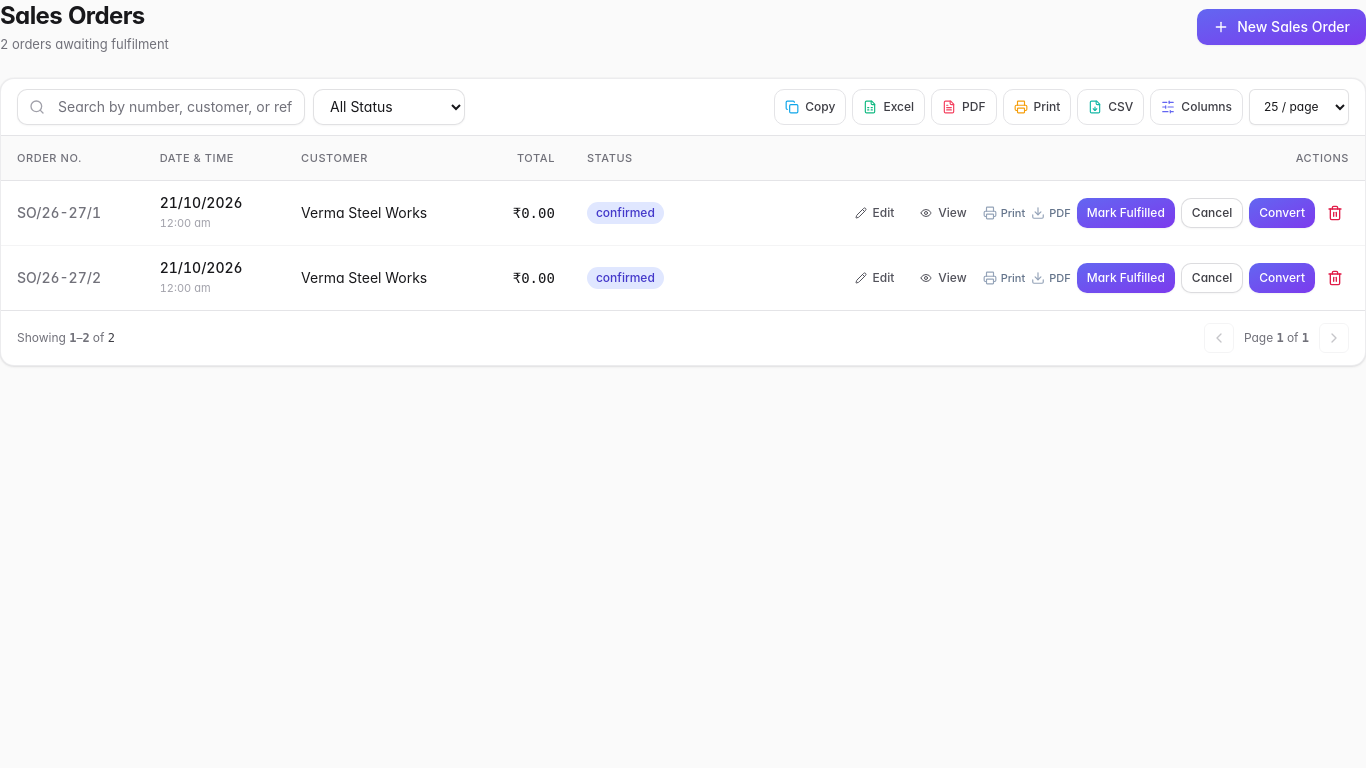
it: SalesOrdersPage — the read is business_id-scoped and never principal-scoped › confirms deletion, calls Supabase delete on sales_order_items and sales_orders, and shows success toast
Later steps or results of the test are not shown.
Expected: the text "SO/26-27/1" is shown, x1=1 y1=180 x2=144 y2=245
Click the button titled "Delete" in the row of "SO/26-27/1": (1335,213) x1=1321 y1=198 x2=1349 y2=228
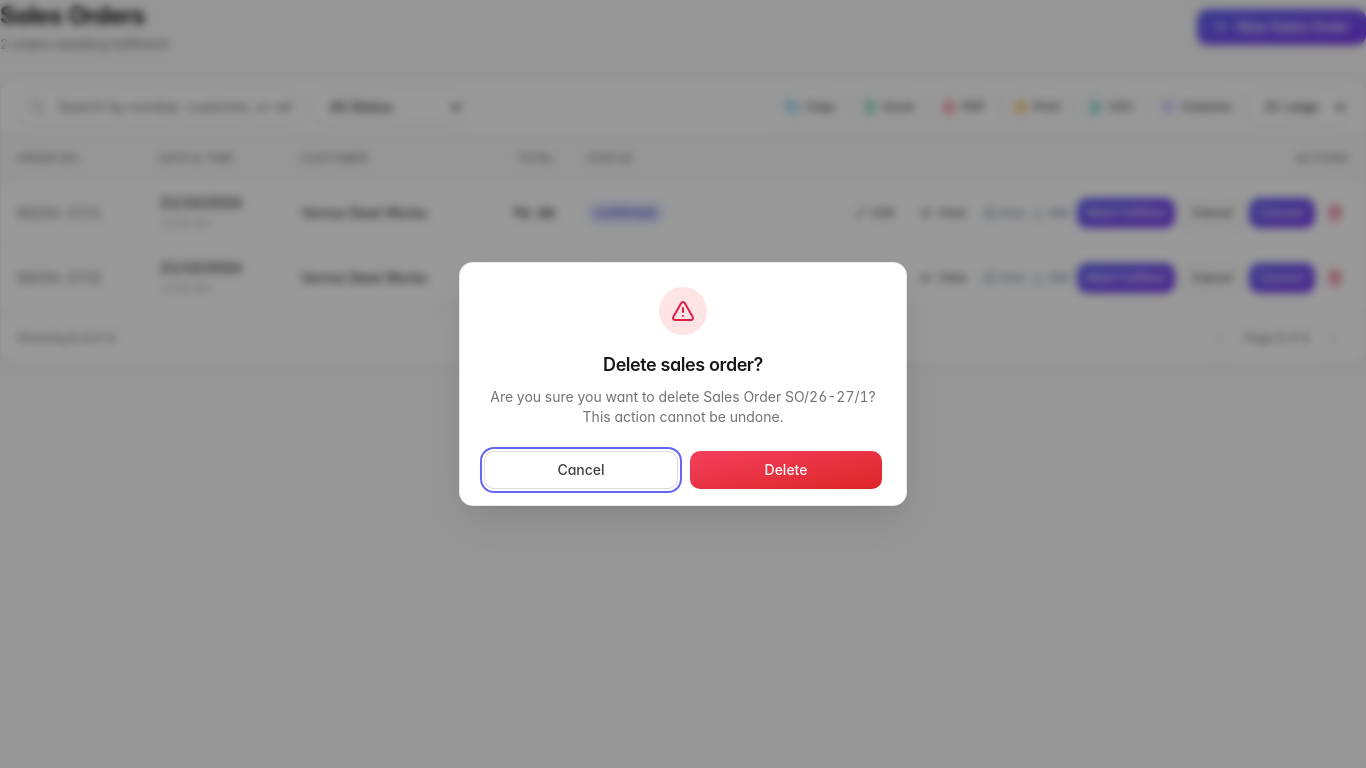
Now the heading "Delete sales order?" is shown, box x1=603 y1=351 x2=763 y2=379
